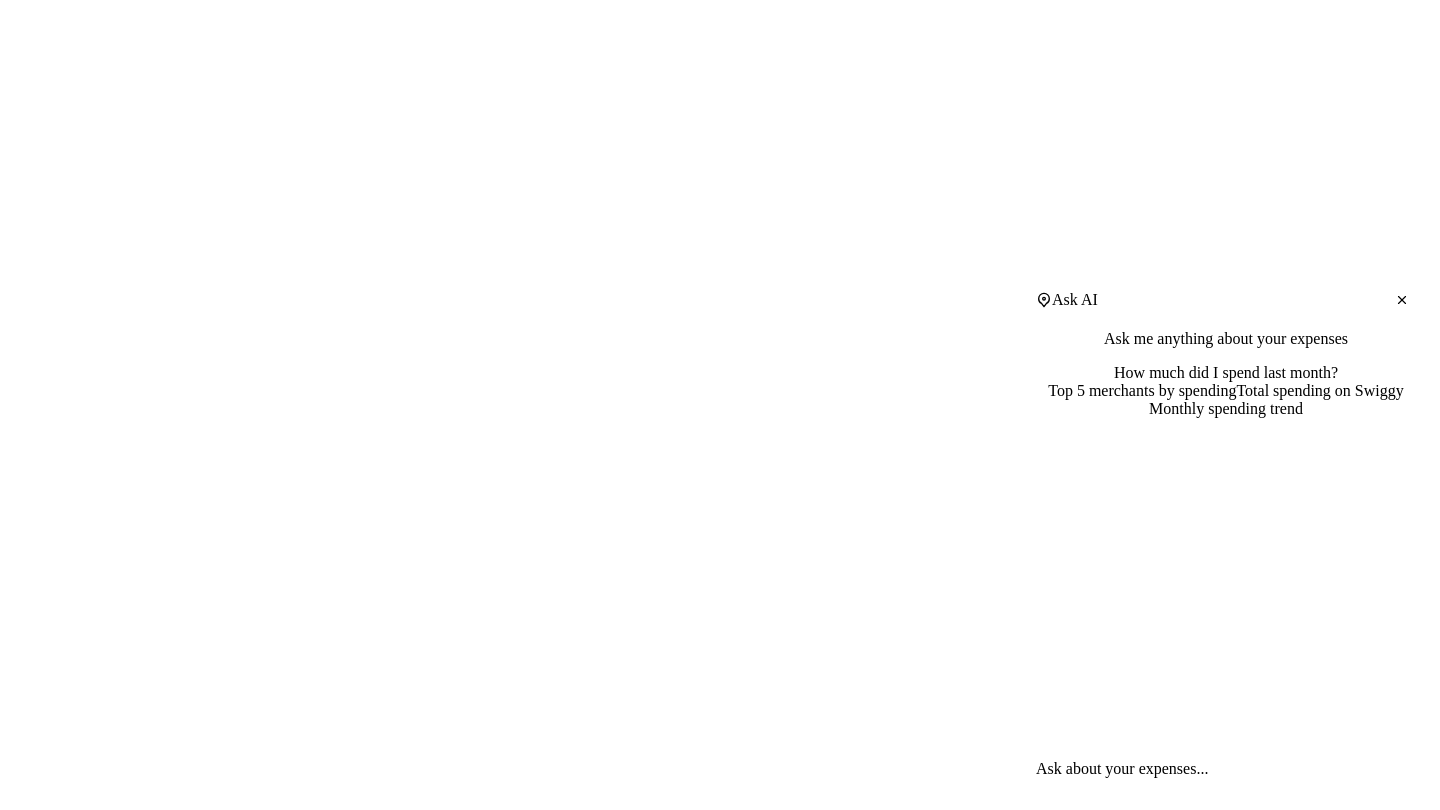
Test: AskAI › should show error message on API failure
Type "test question" into the field with placeholder "Ask about your expenses..." at (1209, 769), box top-left (1036, 760), bottom-right (1382, 778)
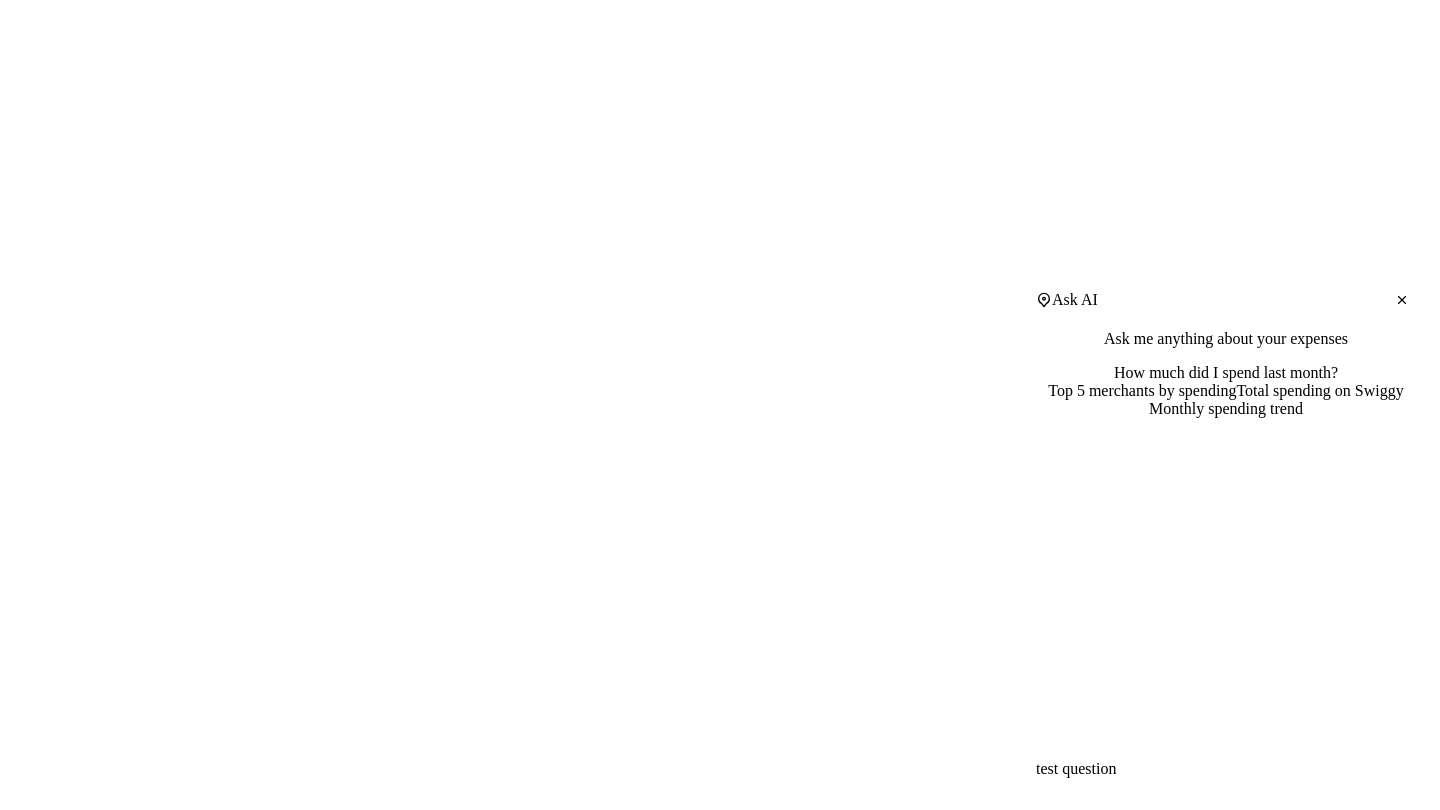
Press Enter
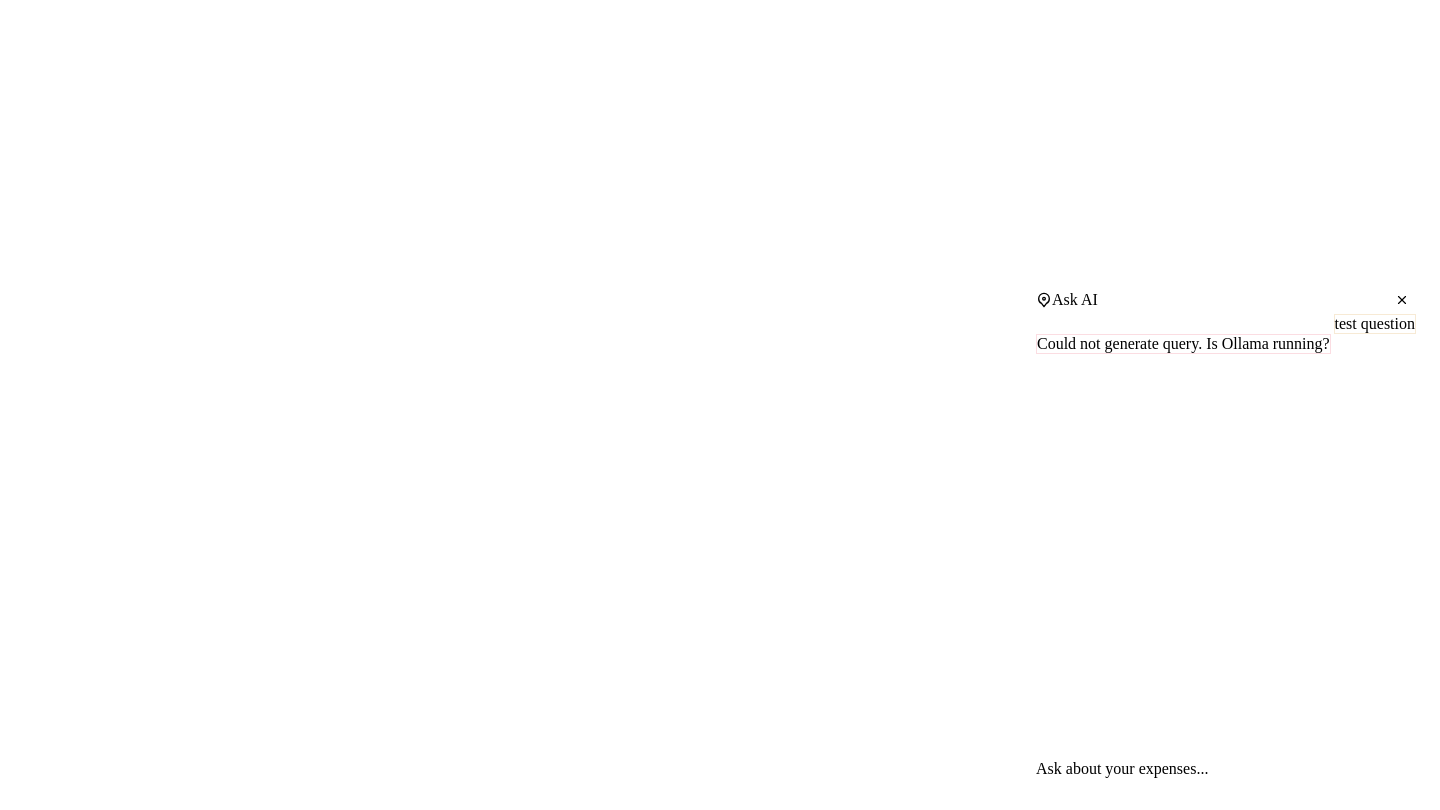
expect the text "Could not generate query. Is Ollama running?" is shown: met, box top-left (1036, 334), bottom-right (1331, 354)
